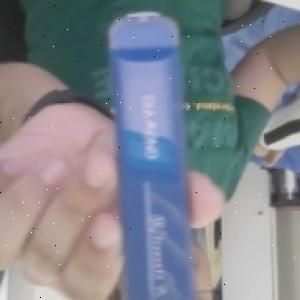Diamond-E-Ciggirate: (103, 9, 192, 300)
